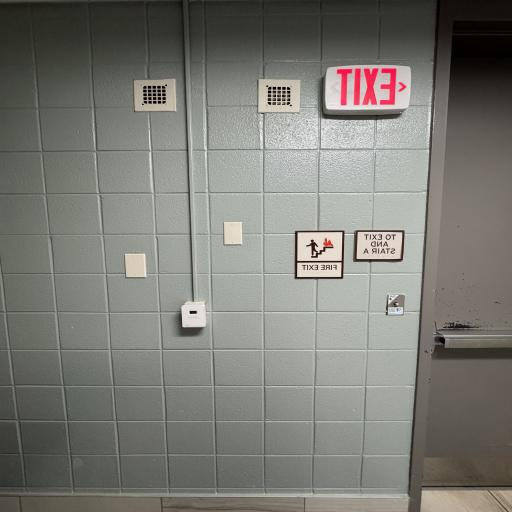door: (436, 0, 512, 512)
exit sign: (318, 62, 415, 119)
light switch: (383, 292, 408, 318)
sign: (293, 227, 347, 281), (351, 228, 405, 261)
